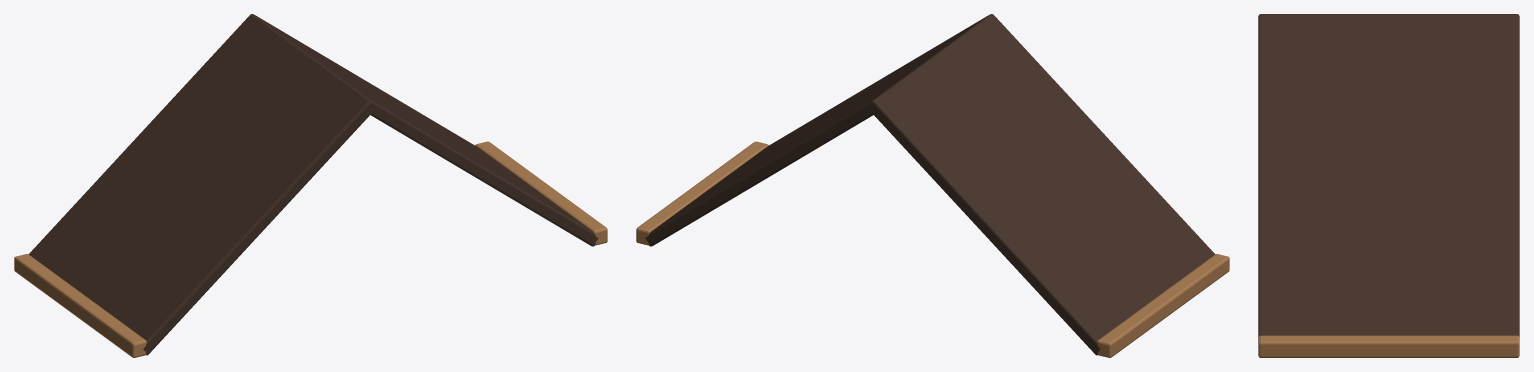
Rendered from roof_gable_4x2m__structure.glb.
3 views of the same model, side by side, from view 1: azimuth 30°, elevation 25°; view 2: azimuth 150°, elevation 25°; view 3: azimuth 270°, elevation 25° (orthographic). The views are drawn at different scales.
Parts seen in each view (by area): view 1: roof_gable_4x2m__structure__mesh_00; view 2: roof_gable_4x2m__structure__mesh_00; view 3: roof_gable_4x2m__structure__mesh_00.
Boxes of the visible parts, <box> form: roof_gable_4x2m__structure__mesh_00: <box>14,14,607,357</box>; roof_gable_4x2m__structure__mesh_00: <box>636,14,1229,357</box>; roof_gable_4x2m__structure__mesh_00: <box>1258,14,1519,357</box>.
Bounding box in the file's own units: 4.58 × 1.85 × 2.
